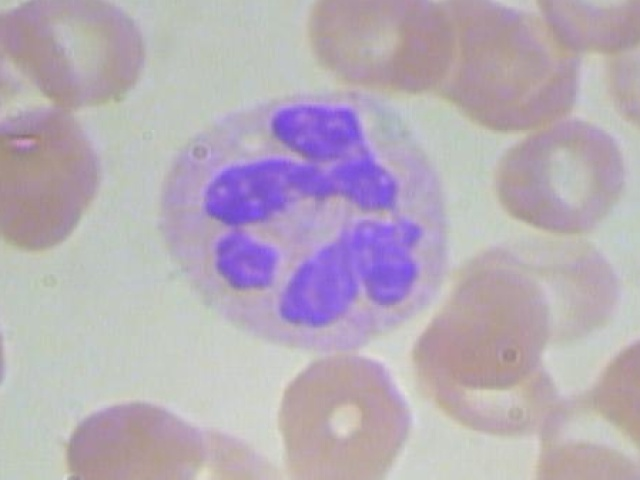RBC: (272, 346, 425, 480), (480, 112, 635, 237), (0, 104, 113, 262), (6, 0, 162, 107), (423, 260, 556, 385), (299, 0, 454, 92), (54, 396, 201, 480), (110, 412, 257, 480), (516, 0, 640, 58), (597, 1, 640, 143), (0, 276, 16, 412)
WBC: (144, 90, 464, 356)
